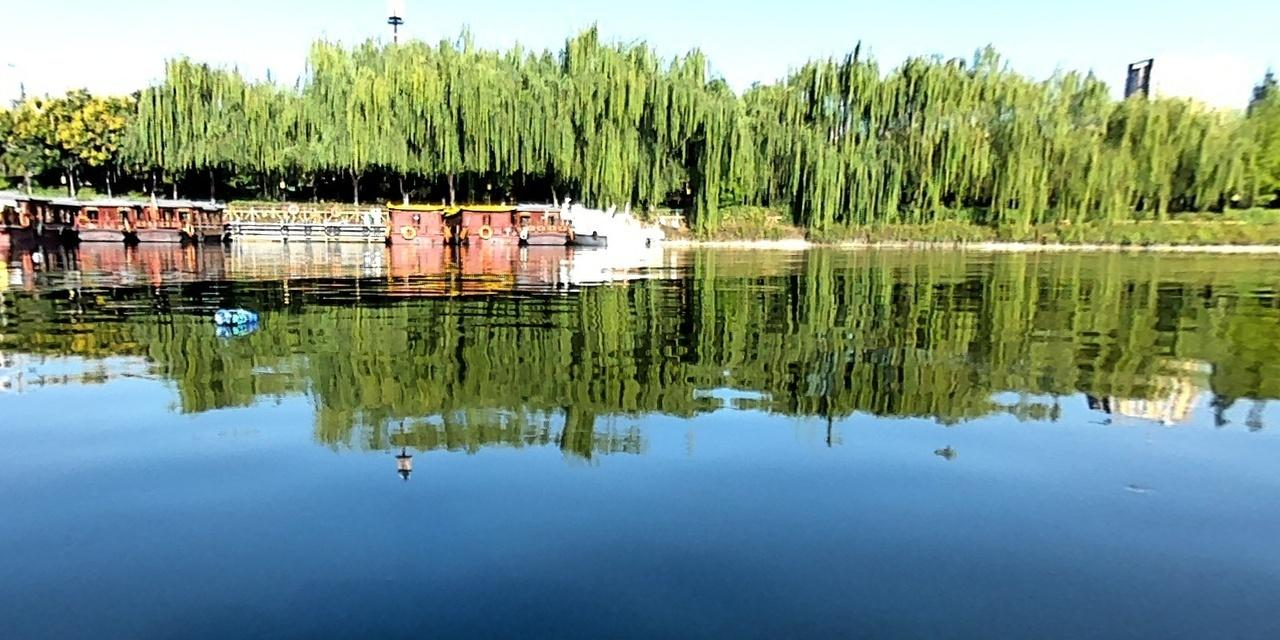bottle: (209, 305, 258, 324)
